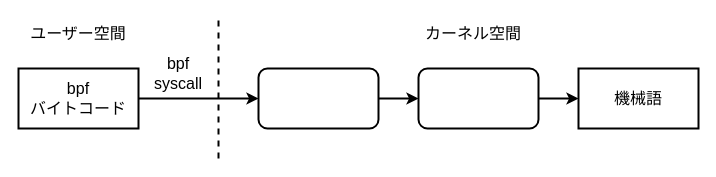
This 716x177 diagram has some shape labels left out. The centre of each missing label's shape, as x and y in pixels:
JITコンパイル: (478,98)
検証器: (318,98)
